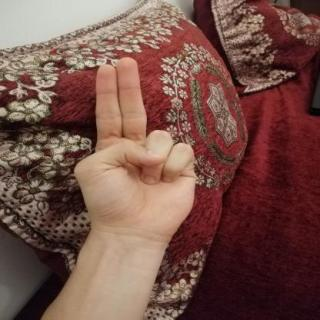TA: (57, 49, 206, 250)
